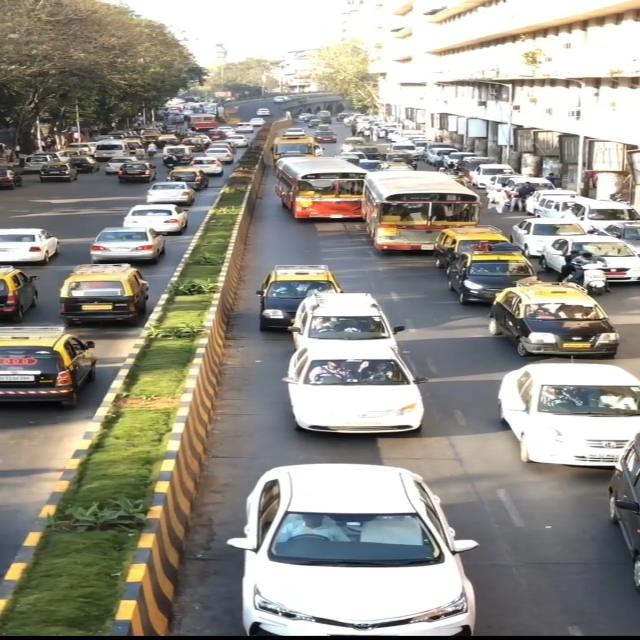Taxi: (491, 289, 625, 358), (0, 329, 89, 409), (55, 261, 151, 329), (450, 253, 527, 302)
